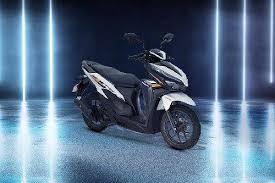motorcycle: (70, 30, 202, 155)
